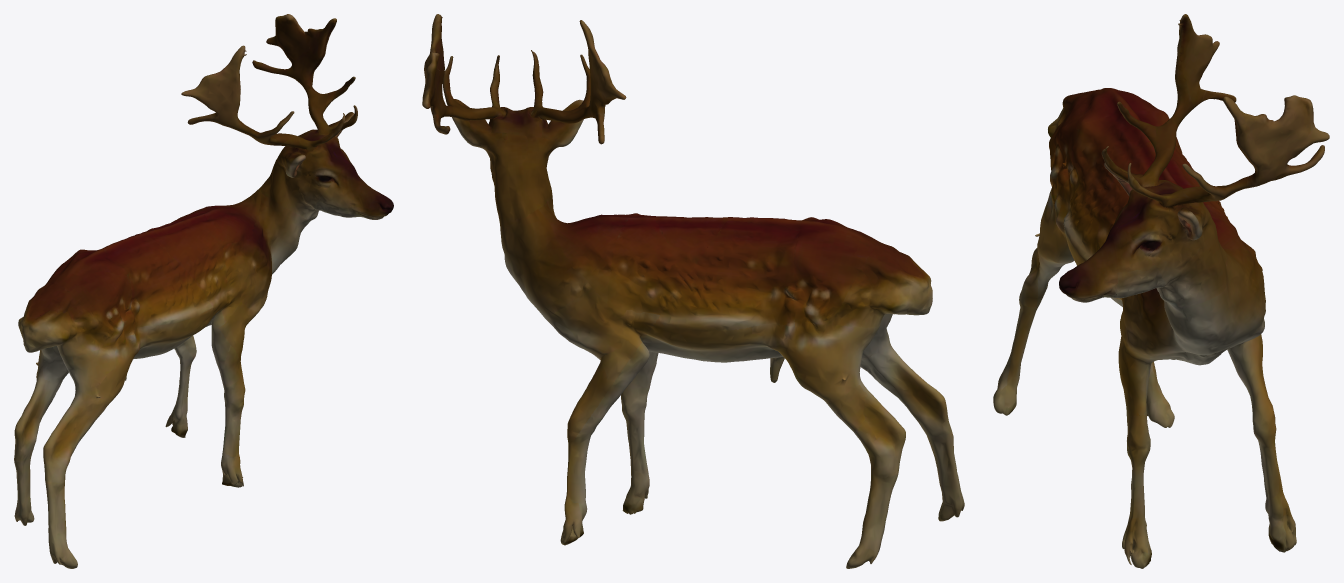
The model's file is uk-fallow-deer.glb.
3 views of the same model, side by side, from view 1: azimuth 30°, elevation 25°; view 2: azimuth 150°, elevation 25°; view 3: azimuth 270°, elevation 25° (orthographic). The views are drawn at different scales.
Parts seen in each view (by area): view 1: tripo_node_f2138655-2c59-4f51-9027-5e22fcc0f09a; view 2: tripo_node_f2138655-2c59-4f51-9027-5e22fcc0f09a; view 3: tripo_node_f2138655-2c59-4f51-9027-5e22fcc0f09a.
Boxes of the visible parts, <box> form: tripo_node_f2138655-2c59-4f51-9027-5e22fcc0f09a: <box>14,14,393,568</box>; tripo_node_f2138655-2c59-4f51-9027-5e22fcc0f09a: <box>422,14,964,568</box>; tripo_node_f2138655-2c59-4f51-9027-5e22fcc0f09a: <box>993,14,1329,568</box>.
Bounding box in the file's own units: 0.9143 × 1 × 0.5375.
Materials: 1 (1 with a texture image).
